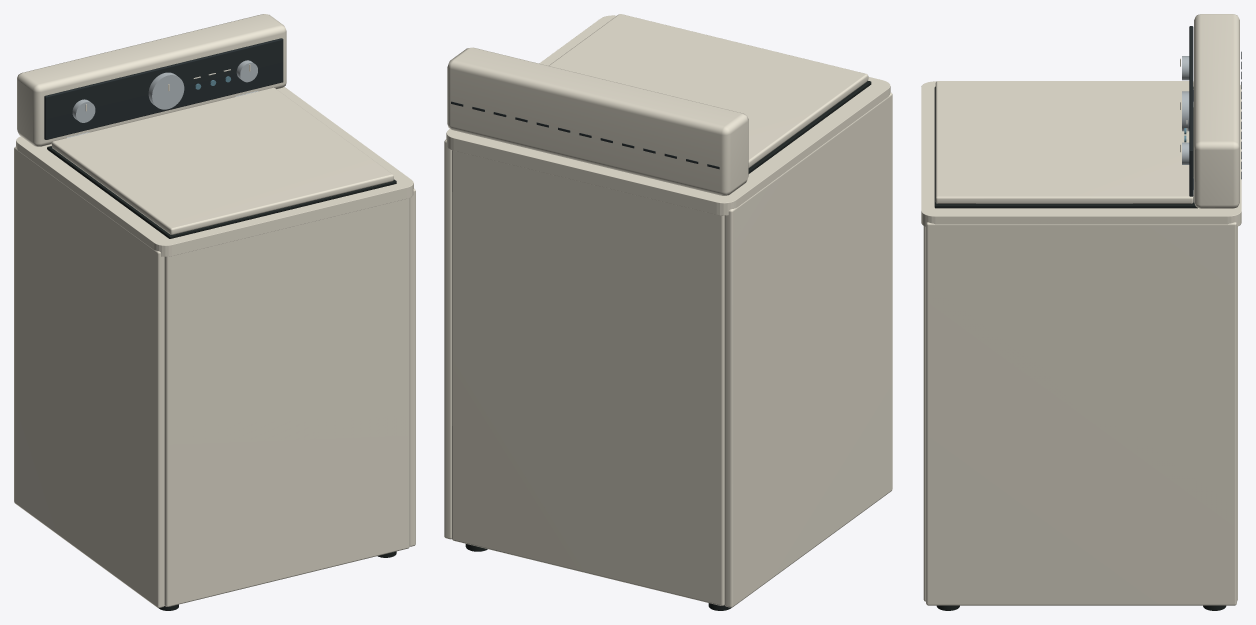
File: laundry-top-load-washer.glb
The picture shows the model from 3 angles, left to right: view 1: azimuth 30°, elevation 25°; view 2: azimuth 150°, elevation 25°; view 3: azimuth 270°, elevation 25°; orthographic projection. The views are drawn at different scales.
Visible parts, largest first — view 1: catalog_surface_RealismUV, catalog_surface_UVMap; view 2: catalog_surface_RealismUV; view 3: catalog_surface_RealismUV, catalog_surface_UVMap.
Part boxes in pixels (x1,y1,x2,y2): catalog_surface_RealismUV: [14, 14, 415, 610]; catalog_surface_UVMap: [44, 38, 283, 139]; catalog_surface_RealismUV: [444, 14, 892, 610]; catalog_surface_RealismUV: [921, 14, 1241, 610]; catalog_surface_UVMap: [1189, 26, 1241, 196].
Bounding box in the file's own units: 0.69 × 1.12 × 0.69.
